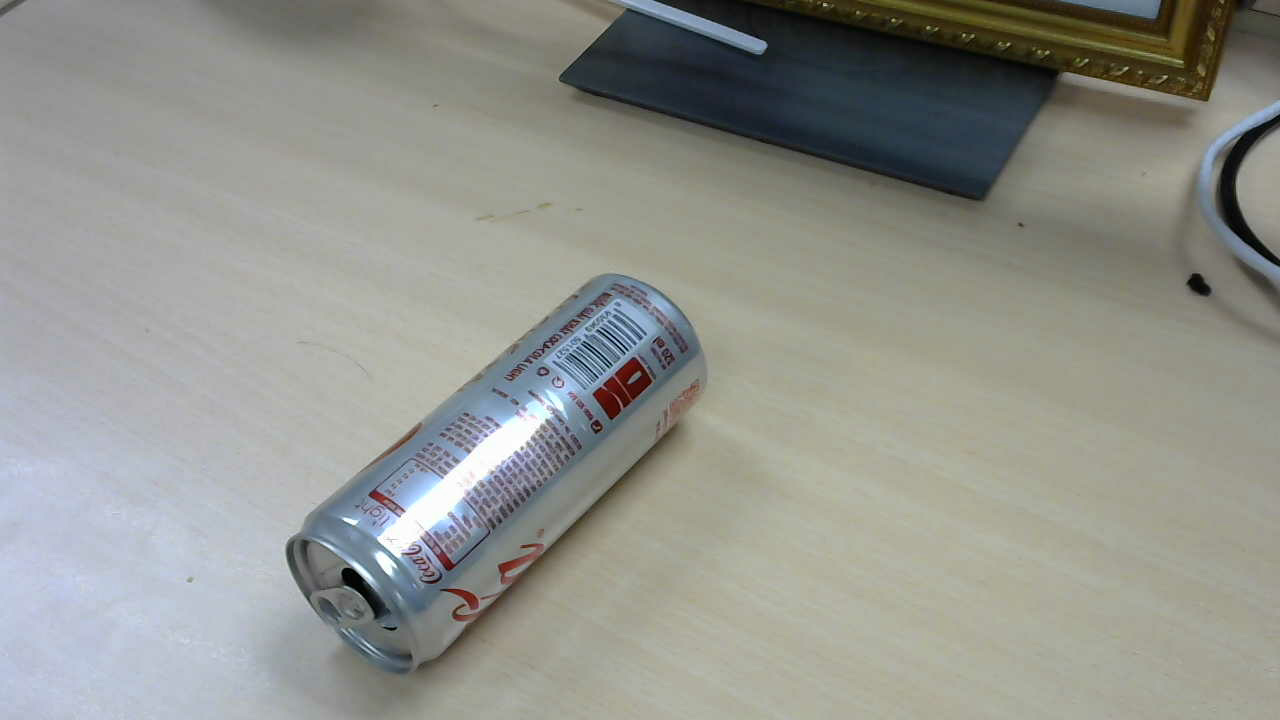Coca_Cola: (289, 272, 715, 679)
